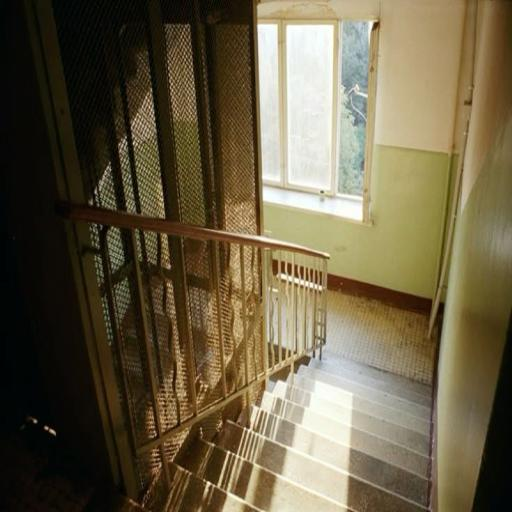stairs: (71, 186, 463, 512)
